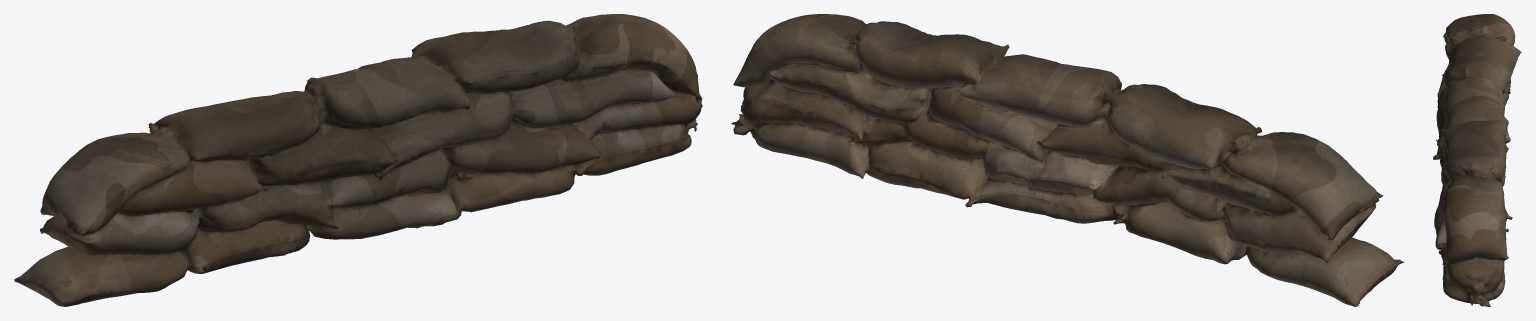
Rendered from Sandbagwall.glb.
3 renders of one model, left to right at view 1: azimuth 30°, elevation 25°; view 2: azimuth 150°, elevation 25°; view 3: azimuth 270°, elevation 25°, orthographic. The views are drawn at different scales.
Visible parts, largest first — view 1: SM_SBFlat__0; view 2: SM_SBFlat__0; view 3: SM_SBFlat__0.
Boxes of the visible parts, bbox=[...] form: SM_SBFlat__0: bbox=[14, 14, 702, 306]; SM_SBFlat__0: bbox=[731, 14, 1404, 306]; SM_SBFlat__0: bbox=[1433, 14, 1521, 306].
Size of the model in its own units: 4.59 by 1.03 by 0.7389.
1 material, 1 textured.
